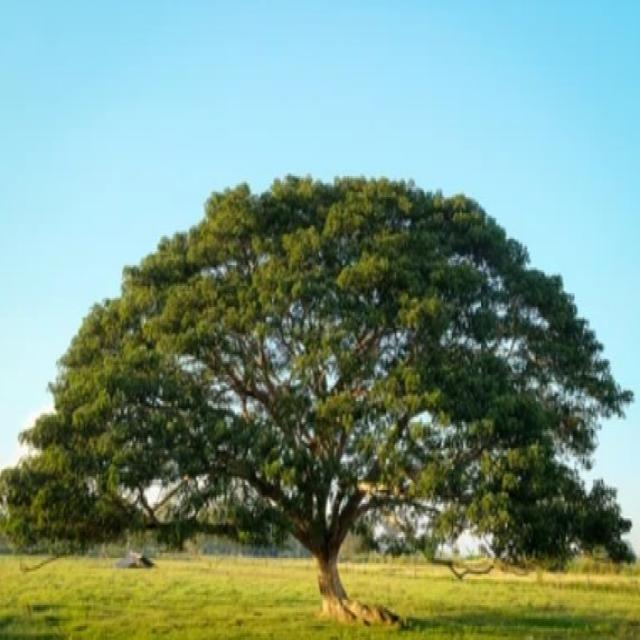Acacia: (8, 168, 634, 582)
